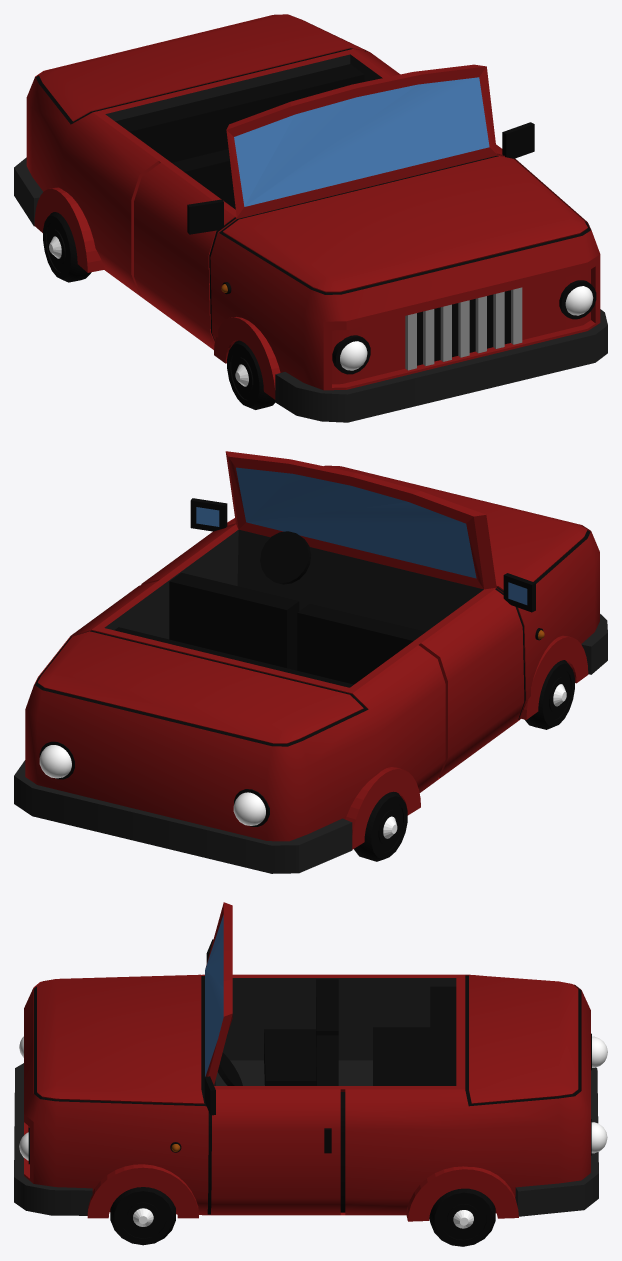
File: Convertible_1380.obj
The picture shows the model from 3 angles, top to bottom: view 1: azimuth 30°, elevation 25°; view 2: azimuth 150°, elevation 25°; view 3: azimuth 270°, elevation 25°; orthographic projection. The views are drawn at different scales.
Visible parts, largest first — view 1: ChamferBox001; view 2: ChamferBox001; view 3: ChamferBox001.
Part boxes in pixels (x1=…): ChamferBox001: x1=14, y1=14, x2=607, y2=422; ChamferBox001: x1=14, y1=451, x2=607, y2=873; ChamferBox001: x1=14, y1=902, x2=607, y2=1246.
Bounding box in the file's own units: 40.28 × 27.69 × 66.22.
